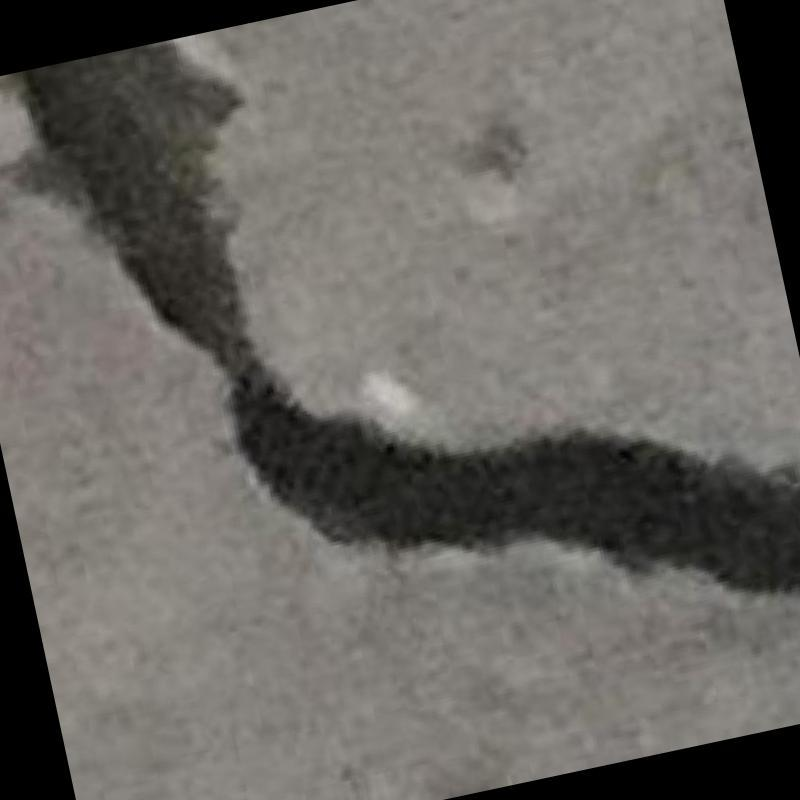pothole: (17, 42, 800, 592)
